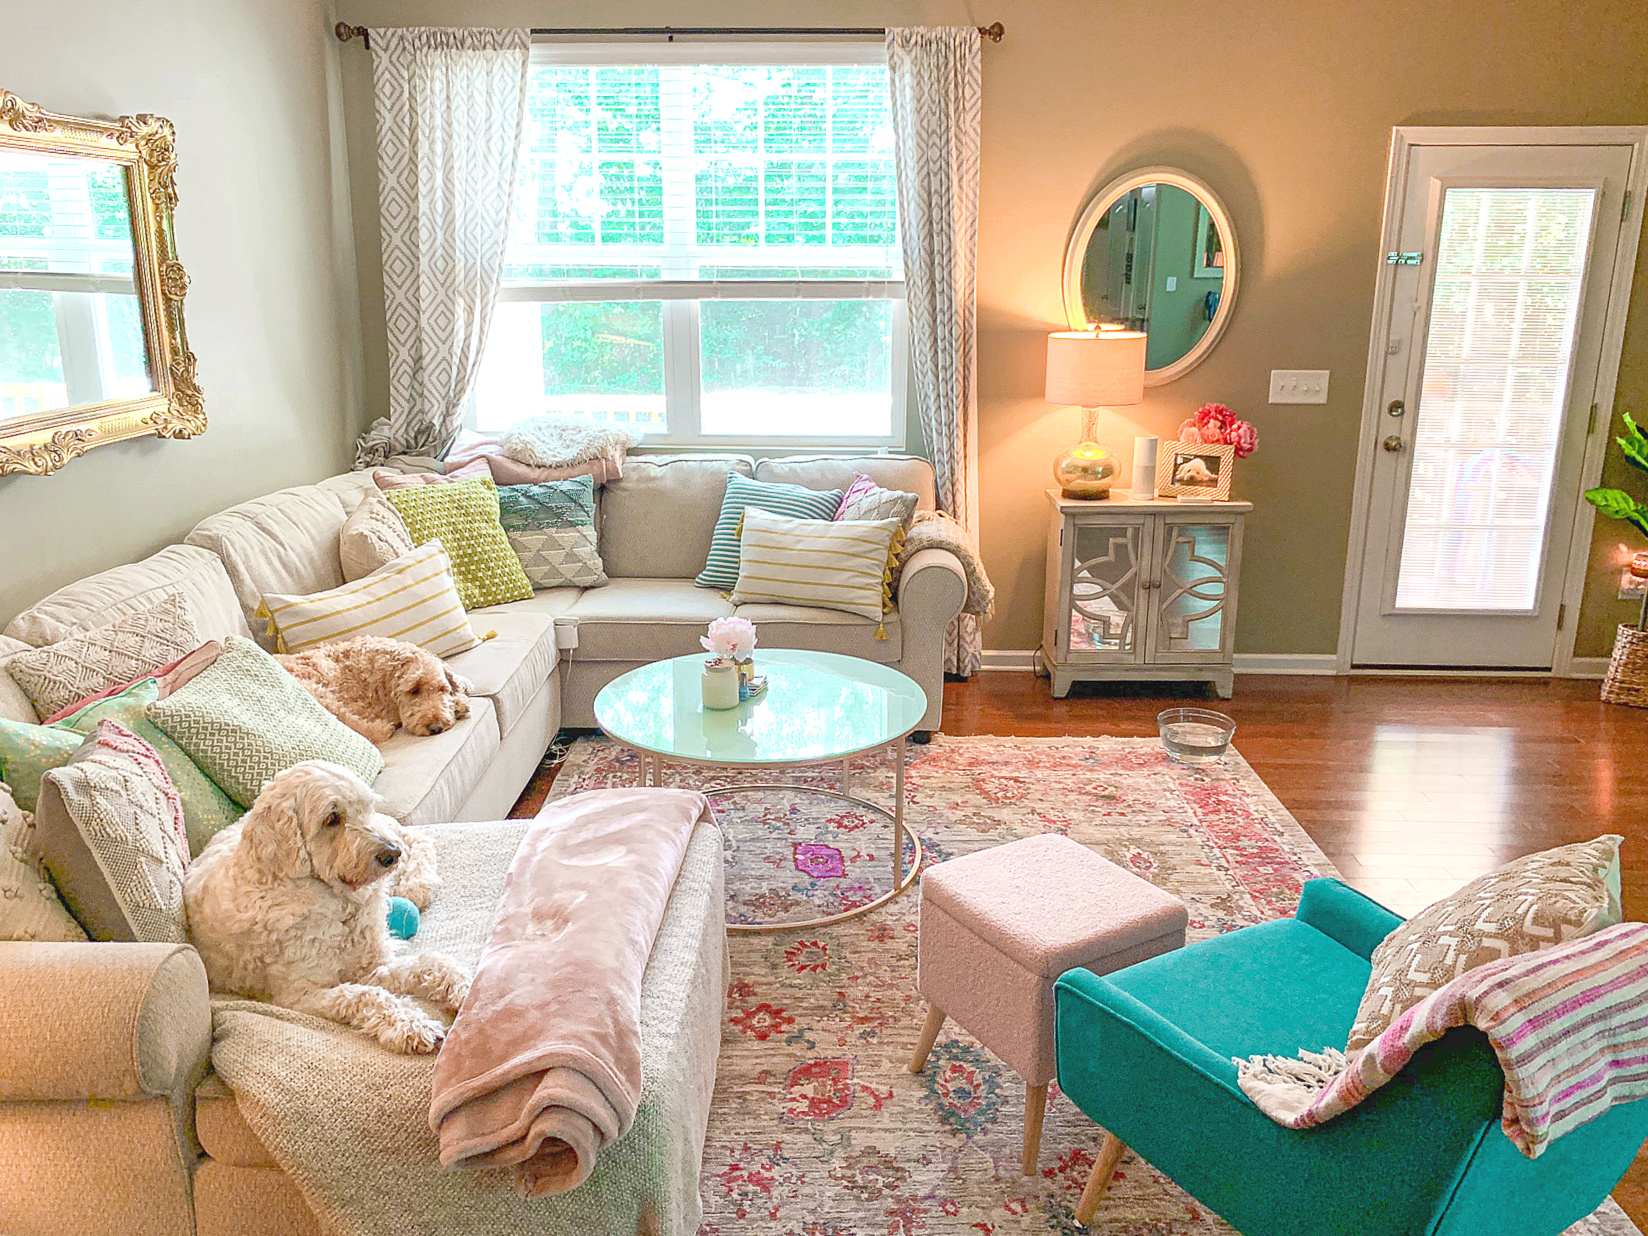biru: (1098, 872, 1438, 1230)
pink: (906, 834, 1167, 1046)
putih: (699, 663, 736, 710)
